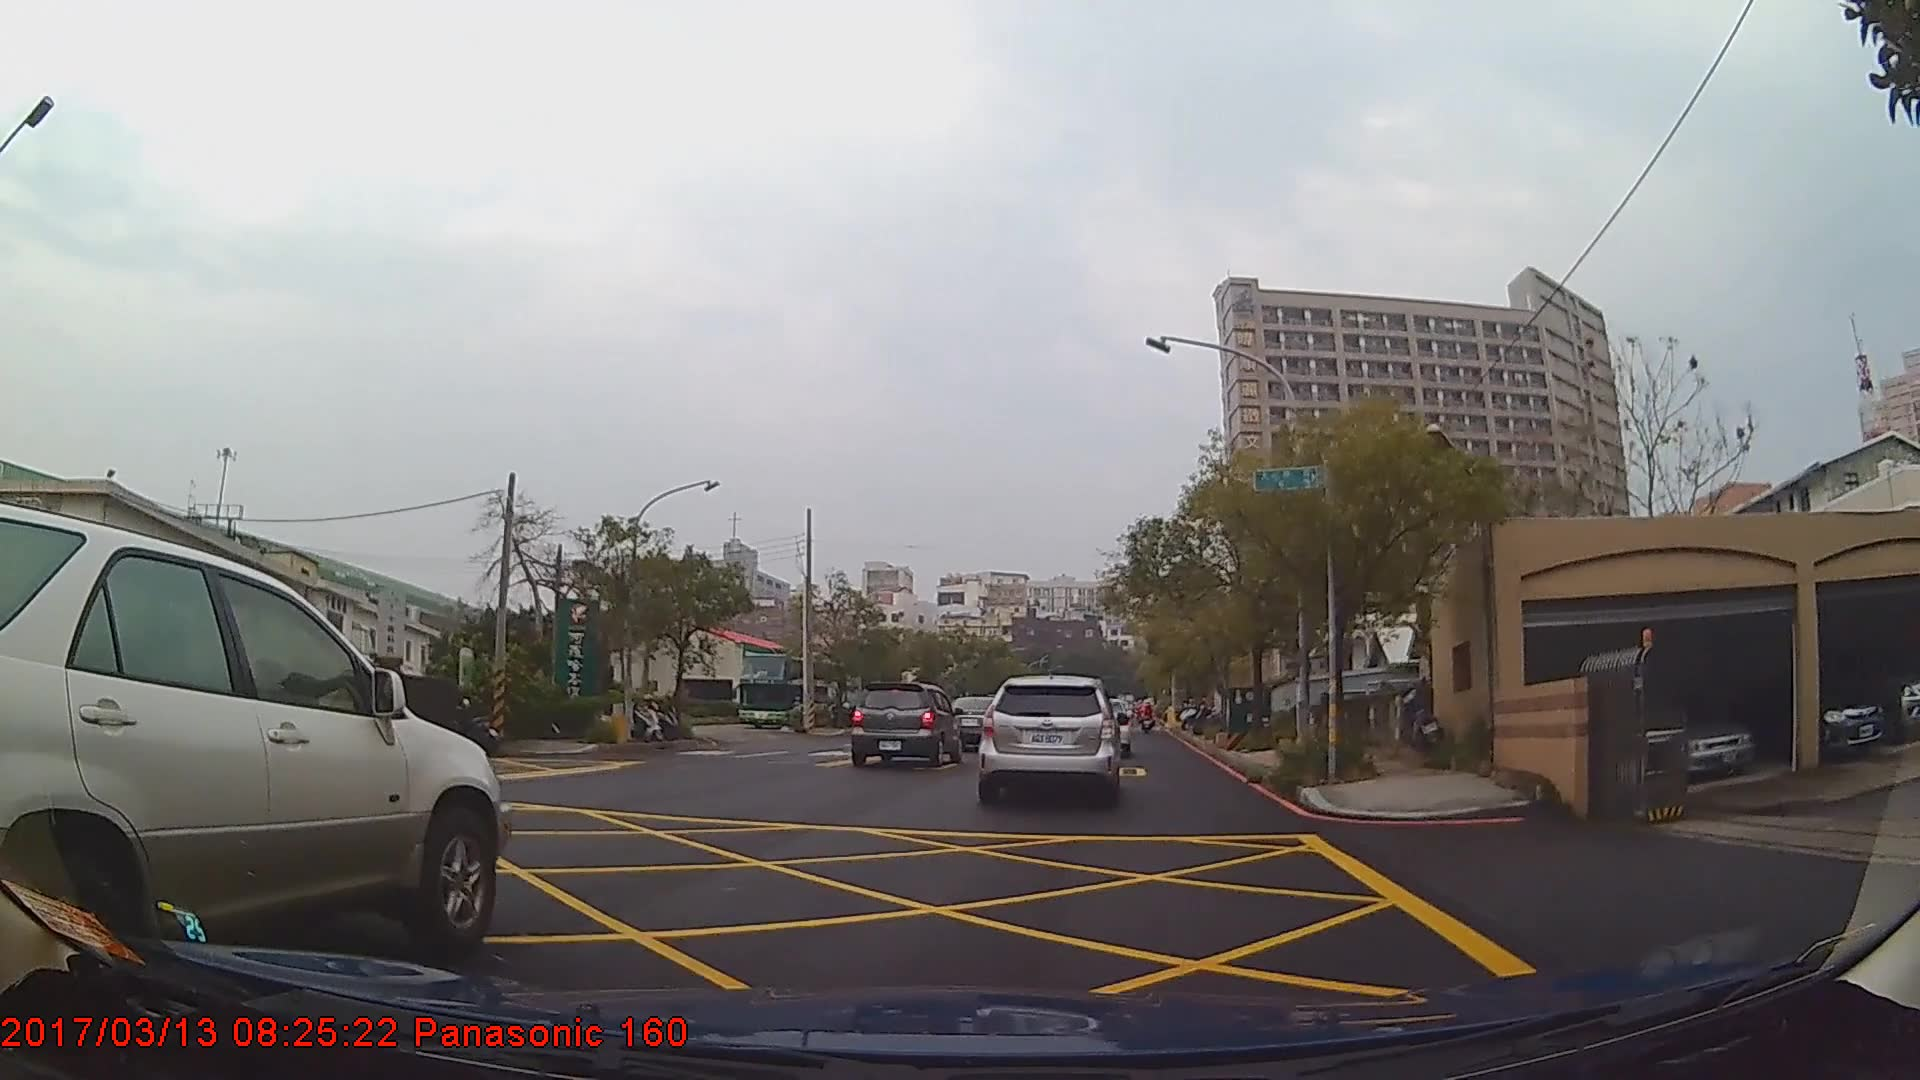vehicle: (0, 506, 512, 992), (977, 674, 1122, 802), (1629, 699, 1759, 781), (851, 682, 965, 767), (737, 653, 847, 731)
